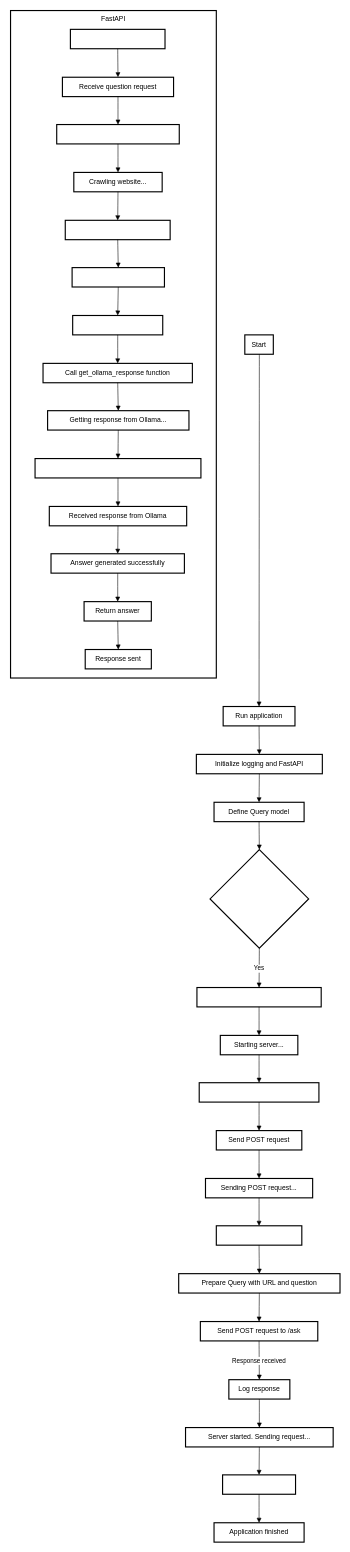
The diagram is 350 pixels wide and 1552 high, and some of its shapes have lost their labels. Each missing label, with the centre of its shape:
"Call crawl_website function" belongs at [118,134].
"Crawling completed" belongs at [117,325].
"Create AsyncClient" belongs at [258,1235].
"Define /ask endpoint" belongs at [117,38].
"Extract text content" belongs at [118,277].
"Fetch webpage content" belongs at [117,229].
"Format and send context and question" belongs at [117,468].
"Main entry point?" belongs at [259,898].
"Run server and send request" belongs at [258,997].
"Server stopped." belongs at [259,1484].
"Wait for the server to start" belongs at [258,1092].
